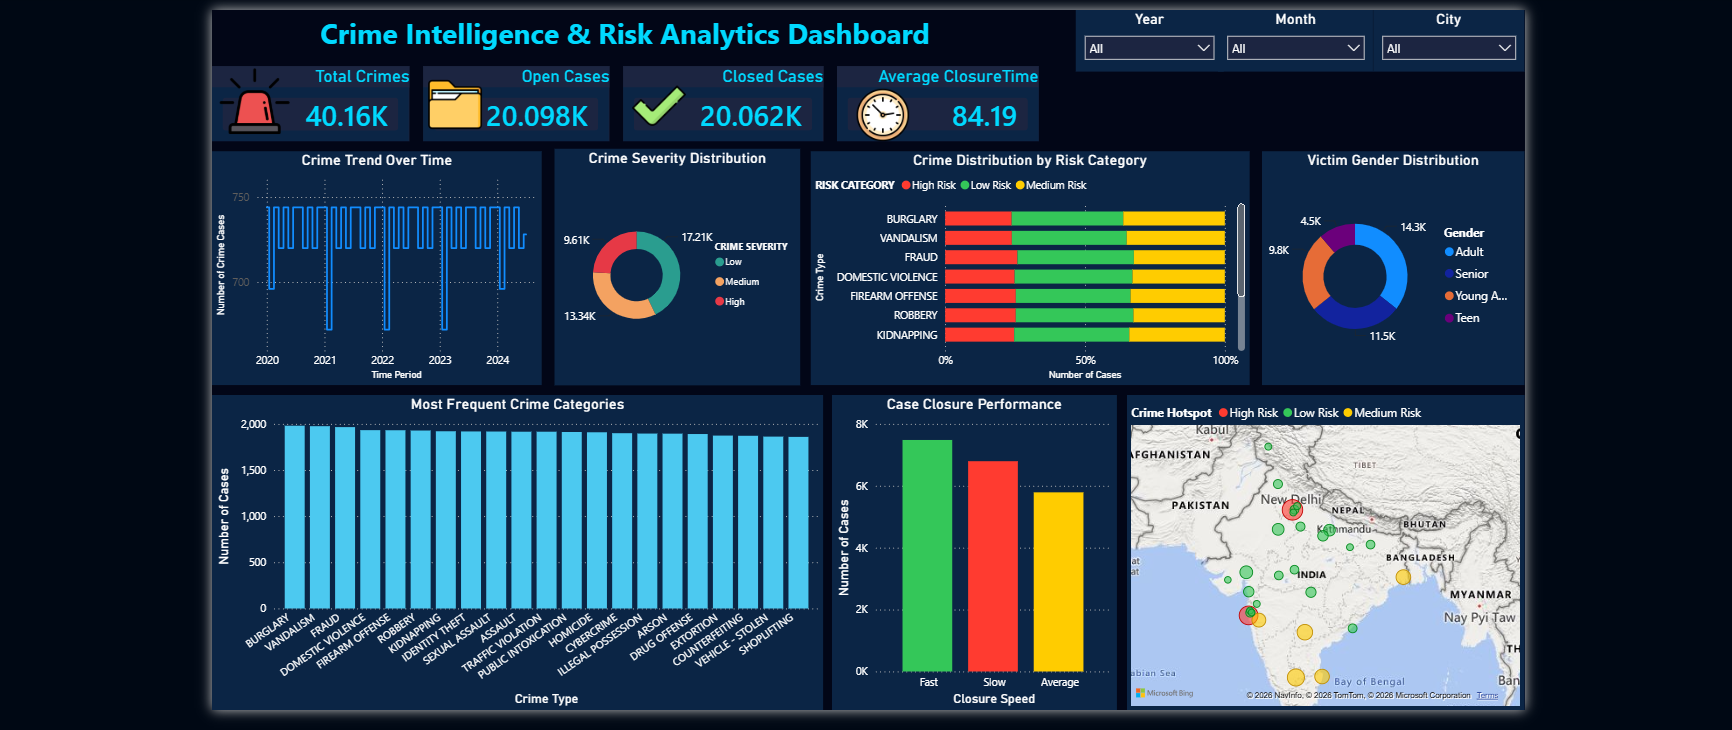

The dashboard page shown, as its layout file describes it:
{"tool":"powerbi","page":{"name":"Page 1","canvas":[1500,800],"ordinal":0},"visuals":[{"type":"textbox","box":[0,0,944.3,64.3],"z":0},{"type":"slicer","title":"Year","fields":{"Values":["CRIME_DATA_NEW.YEAR"]},"box":[987.1,0,168.6,70],"z":1000},{"type":"slicer","title":"Month","fields":{"Values":["CRIME_DATA_NEW.MONTH"]},"box":[1150,0,177.1,70],"z":2000},{"type":"slicer","title":"City","fields":{"Values":["CRIME_DATA_NEW.CITY"]},"box":[1327.1,0,172.9,70],"z":3000},{"type":"cardVisual","title":"Open Cases","fields":{"Data":["CountNonNull(CRIME_DATA_NEW.CASE_STATUS)"]},"box":[241.4,64.3,212.9,85.7],"z":4000},{"type":"cardVisual","title":"Closed Cases","fields":{"Data":["CountNonNull(CRIME_DATA_NEW.CASE_STATUS)"]},"box":[470,64.3,228.6,85.7],"z":5000},{"type":"cardVisual","title":"Average ClosureTime","fields":{"Data":["Avg(CRIME_DATA_NEW.CASE_DURATION)"]},"box":[714.3,64.3,230,85.7],"z":6000},{"type":"map","fields":{"Category":["CRIME_DATA_NEW.CITY","CRIME_DATA_NEW.Country"],"Series":["CRIME_DATA_NEW.RISK_CATEGORY"],"Size":["CountNonNull(CRIME_DATA_NEW.REPORT_NUMBER)"]},"box":[1045.7,440,454.3,360],"z":7000},{"type":"hundredPercentStackedBarChart","title":"Crime Distribution by Risk Category","fields":{"Category":["CRIME_DATA_NEW.CRIME_DESCRIPTION"],"Y":["CountNonNull(CRIME_DATA_NEW.REPORT_NUMBER)"],"Series":["CRIME_DATA_NEW.RISK_CATEGORY"]},"box":[684.3,161.4,501.4,267.1],"z":8000},{"type":"lineChart","title":"Crime Trend Over Time","fields":{"Category":["CRIME_DATA_NEW.DATE_OF_OCCURRENCE.Variation.Date Hierarchy.Year","CRIME_DATA_NEW.DATE_OF_OCCURRENCE.Variation.Date Hierarchy.Month"],"Y":["CountNonNull(CRIME_DATA_NEW.REPORT_NUMBER)"]},"box":[0,161.4,377.1,267.1],"z":9000},{"type":"clusteredColumnChart","title":"Most Frequent Crime Categories","fields":{"Category":["CRIME_DATA_NEW.CRIME_DESCRIPTION"],"Y":["CountNonNull(CRIME_DATA_NEW.REPORT_NUMBER)"]},"box":[0,440,698.6,360],"z":10000},{"type":"donutChart","title":"Crime Severity Distribution","fields":{"Category":["CRIME_SEVERITY_VIEW.CRIME_SEVERITY"],"Y":["Sum(CRIME_SEVERITY_VIEW.TOTAL_CRIMES)"]},"box":[392,159,281,270],"z":11000},{"type":"clusteredColumnChart","title":"Case Closure Performance","fields":{"Category":["CRIME_DATA_NEW.CLOSURE_SPEED"],"Y":["CountNonNull(CRIME_DATA_NEW.REPORT_NUMBER)"]},"box":[708.6,440,325.7,360],"z":12000},{"type":"donutChart","title":"Victim Gender Distribution","fields":{"Category":["CRIME_DATA_NEW.AGE_GROUP"],"Y":["CountNonNull(CRIME_DATA_NEW.REPORT_NUMBER)"]},"box":[1200,161.4,300,267.1],"z":13000},{"type":"cardVisual","title":"Total Crimes","fields":{"Data":["CountNonNull(CRIME_DATA_NEW.REPORT_NUMBER)"]},"box":[0,64.3,225.7,85.7],"z":14000},{"type":"image","box":[241.4,77.1,72.9,61.4],"z":15000},{"type":"image","box":[472.9,78.6,75.7,61.4],"z":16000},{"type":"image","box":[714.3,90,104.3,60],"z":17000},{"type":"image","box":[0,64.3,97.1,80],"z":18000}]}

Visuals, with their boxes on the page's 1500x800 design canvas (x1, y1, x2, y2). These are canvas units, not pixel positions in the 1732x730 screenshot, which may show the page scaled, cropped or inside an application window:
textbox: {"x1": 0, "y1": 0, "x2": 944, "y2": 64}
"Year" slicer: {"x1": 987, "y1": 0, "x2": 1156, "y2": 70}
"Month" slicer: {"x1": 1150, "y1": 0, "x2": 1327, "y2": 70}
"City" slicer: {"x1": 1327, "y1": 0, "x2": 1500, "y2": 70}
"Open Cases" cardVisual: {"x1": 241, "y1": 64, "x2": 454, "y2": 150}
"Closed Cases" cardVisual: {"x1": 470, "y1": 64, "x2": 699, "y2": 150}
"Average ClosureTime" cardVisual: {"x1": 714, "y1": 64, "x2": 944, "y2": 150}
map - CRIME_DATA_NEW.CITY x CRIME_DATA_NEW.Country: {"x1": 1046, "y1": 440, "x2": 1500, "y2": 800}
"Crime Distribution by Risk Category" hundredPercentStackedBarChart: {"x1": 684, "y1": 161, "x2": 1186, "y2": 428}
"Crime Trend Over Time" lineChart: {"x1": 0, "y1": 161, "x2": 377, "y2": 428}
"Most Frequent Crime Categories" clusteredColumnChart: {"x1": 0, "y1": 440, "x2": 699, "y2": 800}
"Crime Severity Distribution" donutChart: {"x1": 392, "y1": 159, "x2": 673, "y2": 429}
"Case Closure Performance" clusteredColumnChart: {"x1": 709, "y1": 440, "x2": 1034, "y2": 800}
"Victim Gender Distribution" donutChart: {"x1": 1200, "y1": 161, "x2": 1500, "y2": 428}
"Total Crimes" cardVisual: {"x1": 0, "y1": 64, "x2": 226, "y2": 150}
image: {"x1": 241, "y1": 77, "x2": 314, "y2": 138}
image: {"x1": 473, "y1": 79, "x2": 549, "y2": 140}
image: {"x1": 714, "y1": 90, "x2": 819, "y2": 150}
image: {"x1": 0, "y1": 64, "x2": 97, "y2": 144}
